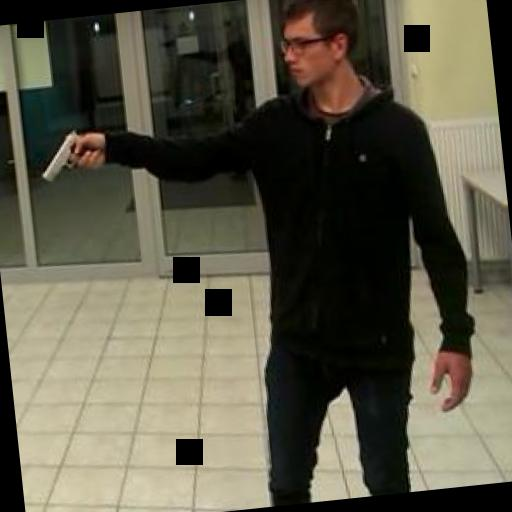Handgun: (36, 126, 98, 182)
